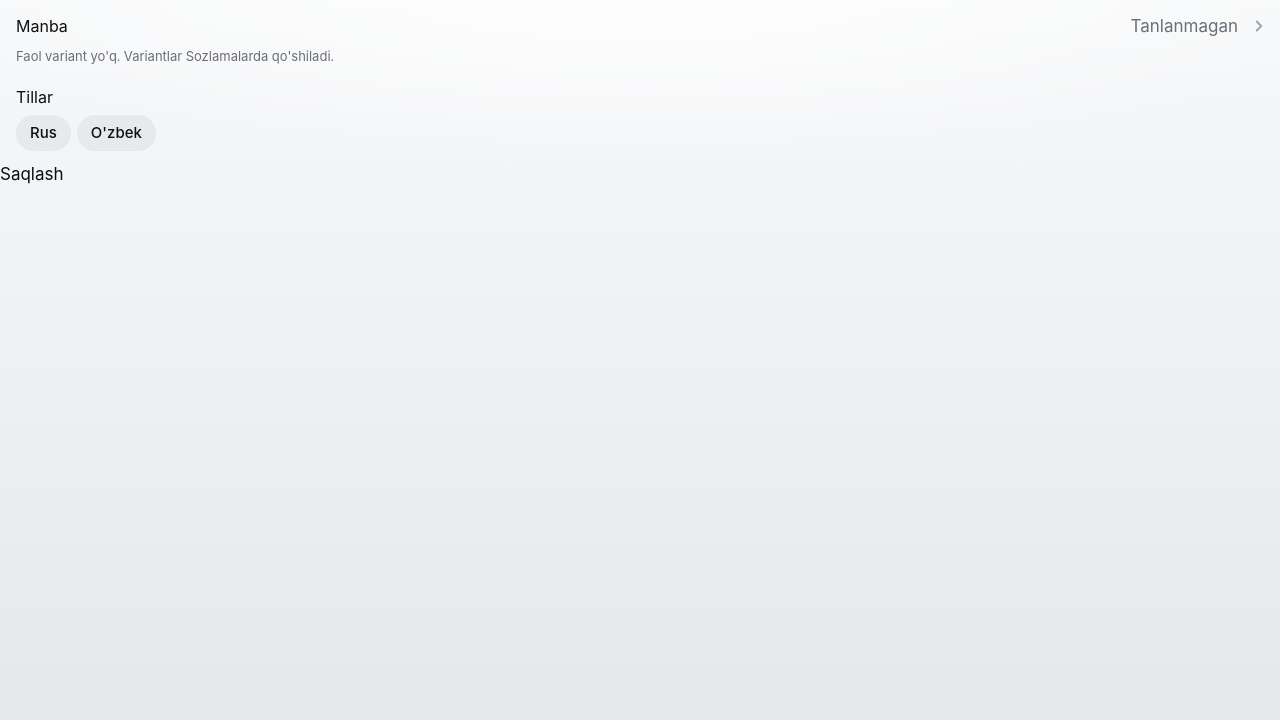
Test: a choice with nothing to choose from says where the options come from
The width and height of the screenshot is (1280, 720).
Expected: the text "Faol variant yo'q. Variantlar Sozlamalarda qo'shiladi." is shown, x1=16 y1=48 x2=334 y2=64
Click the button labelled "Manba Tanlanmagan" at (42, 26), box x1=0 y1=0 x2=1279 y2=52
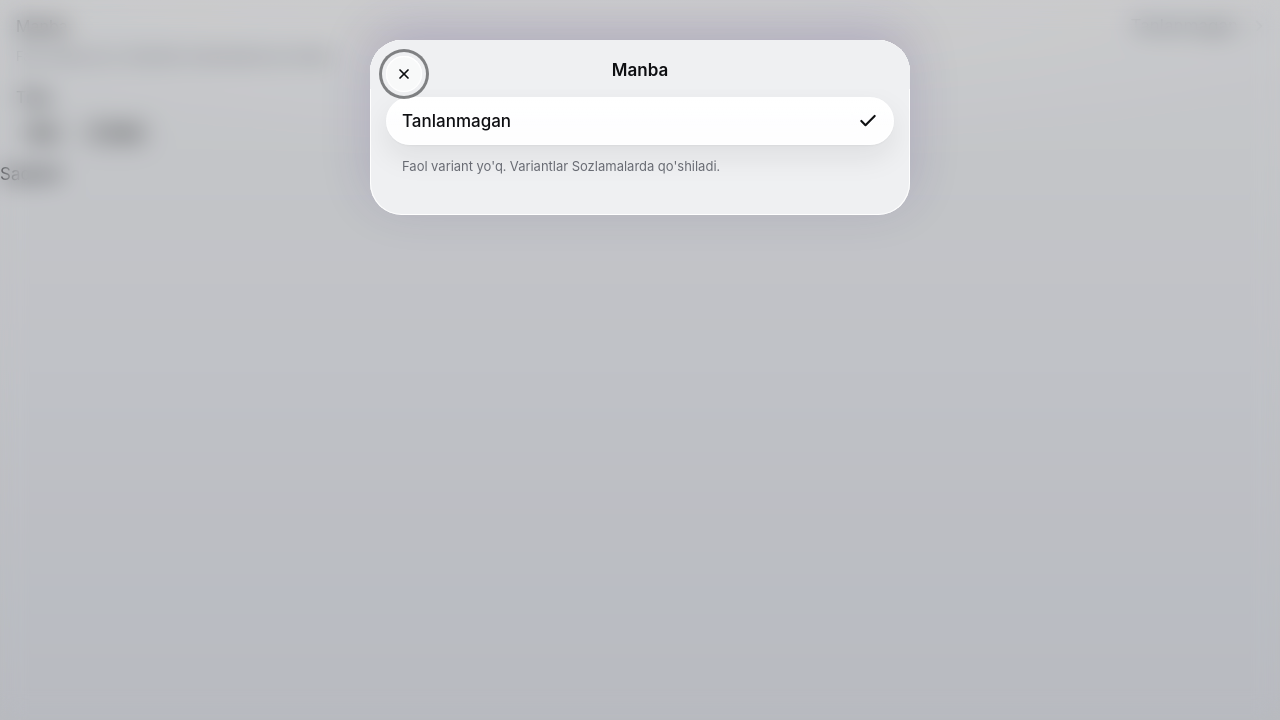
Press Escape
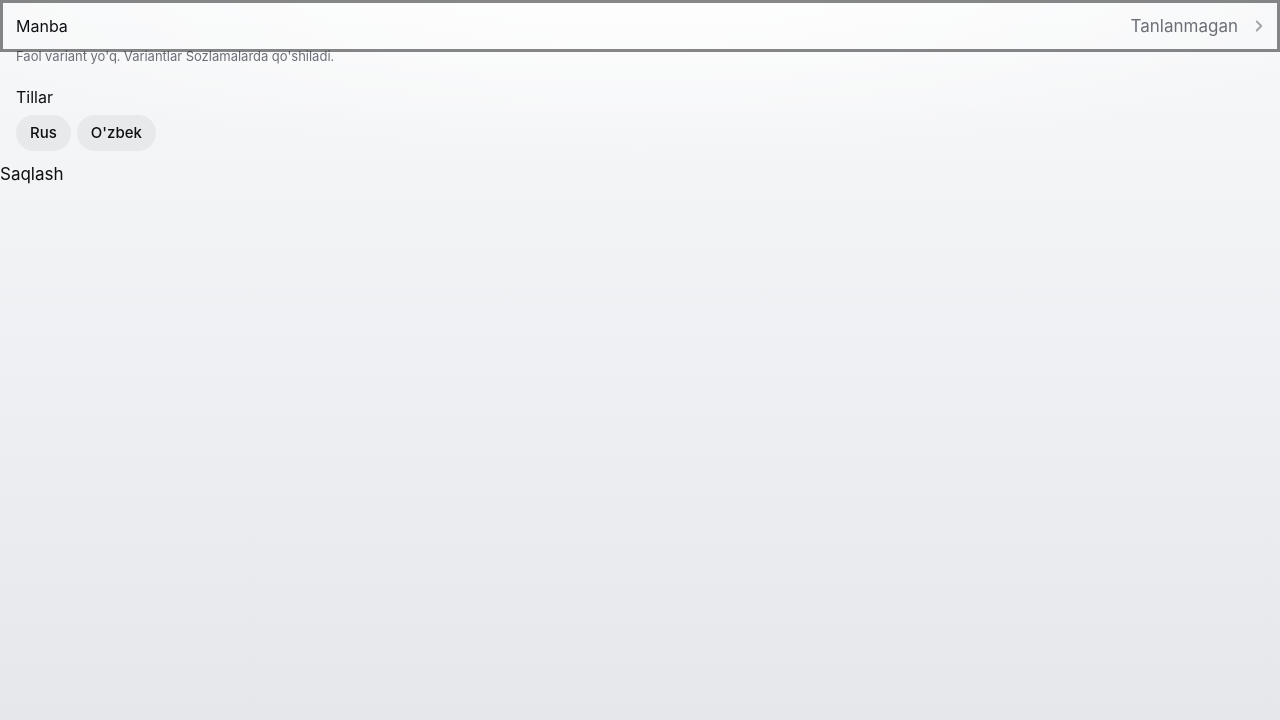
Now the list is gone
